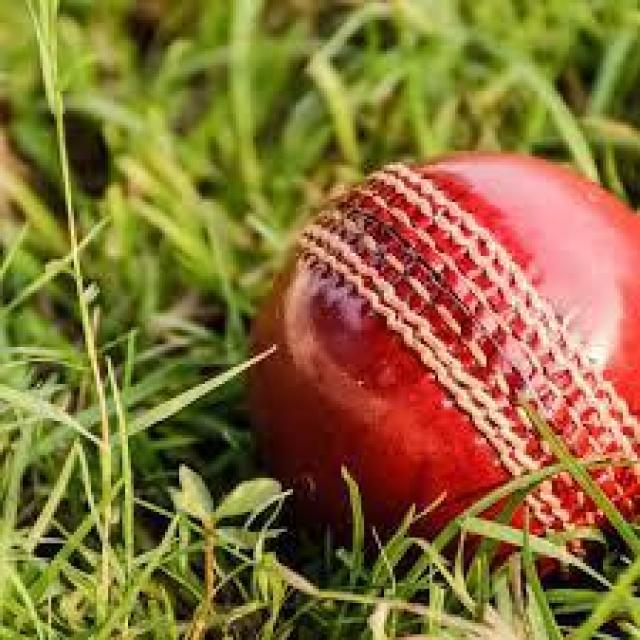ball: (253, 148, 640, 557)
